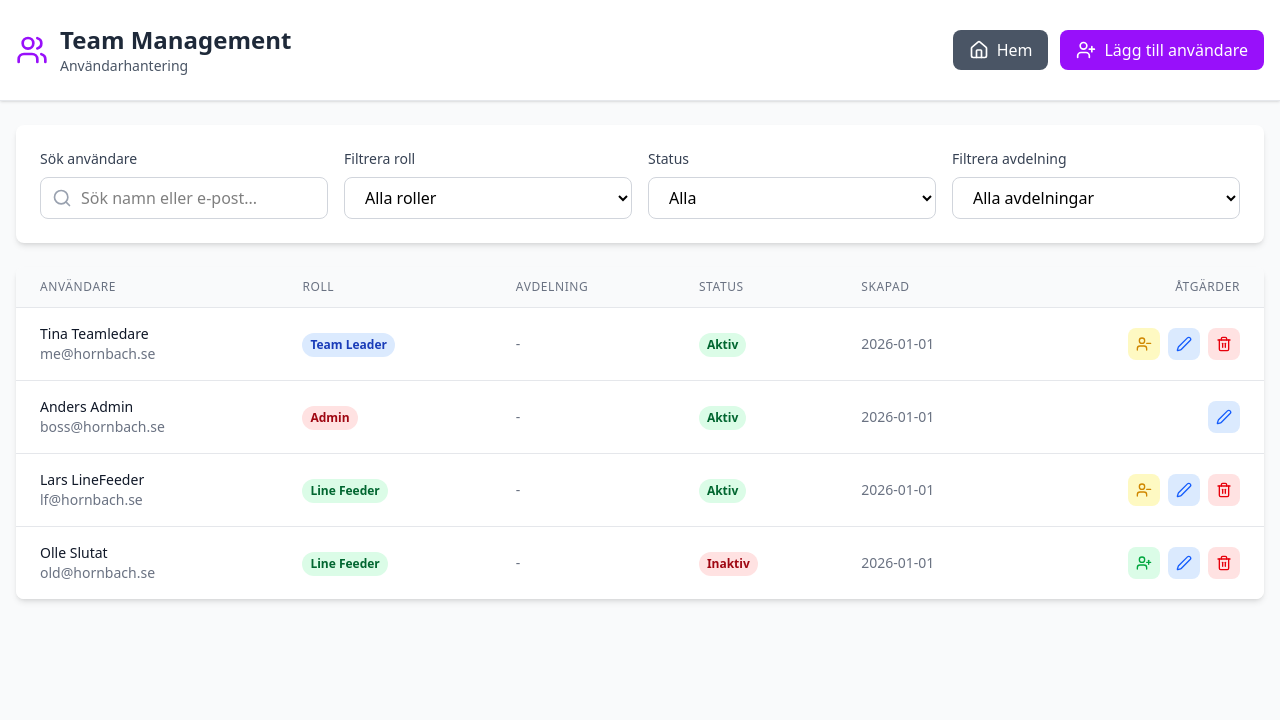
Test: TeamManagement › creates a user only once on a double click
Click the button "Lägg till användare".
click(1162, 50)  # box [1060, 30, 1264, 70]
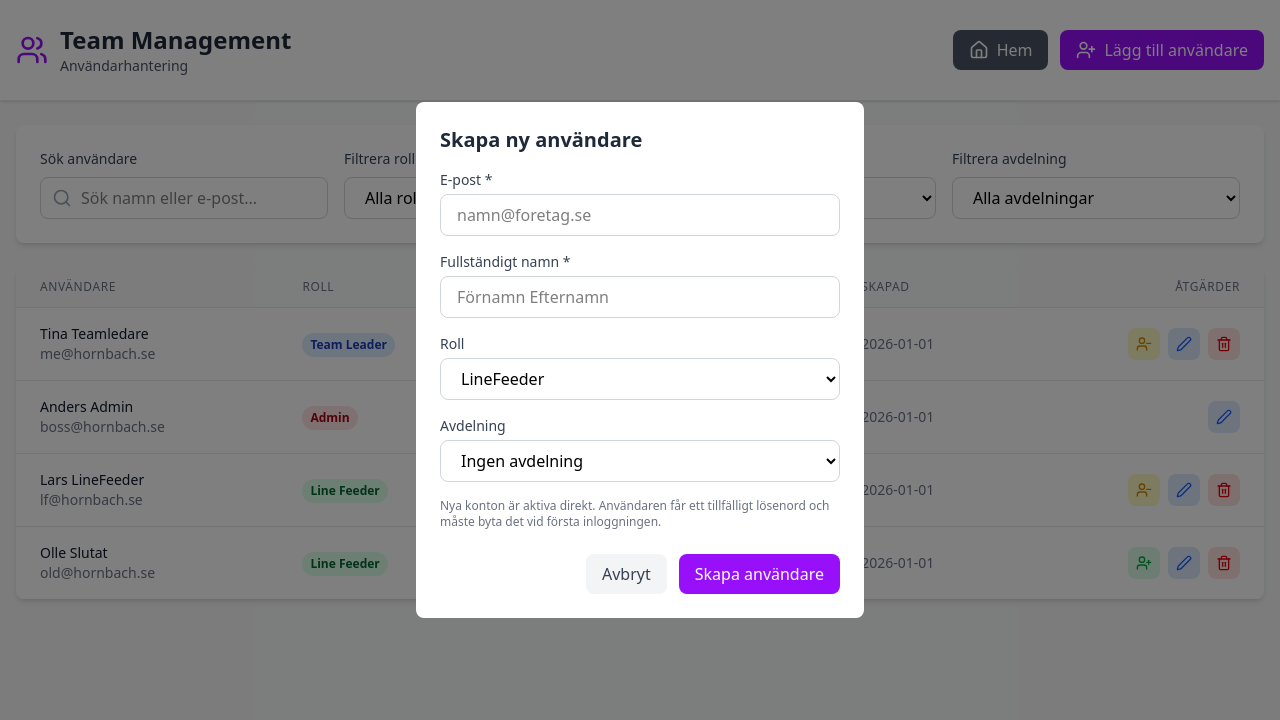
Type "ny@hornbach.se" into the field with placeholder "namn@foretag.se".
click(640, 215); type("ny@hornbach.se")  # box [440, 194, 840, 236]
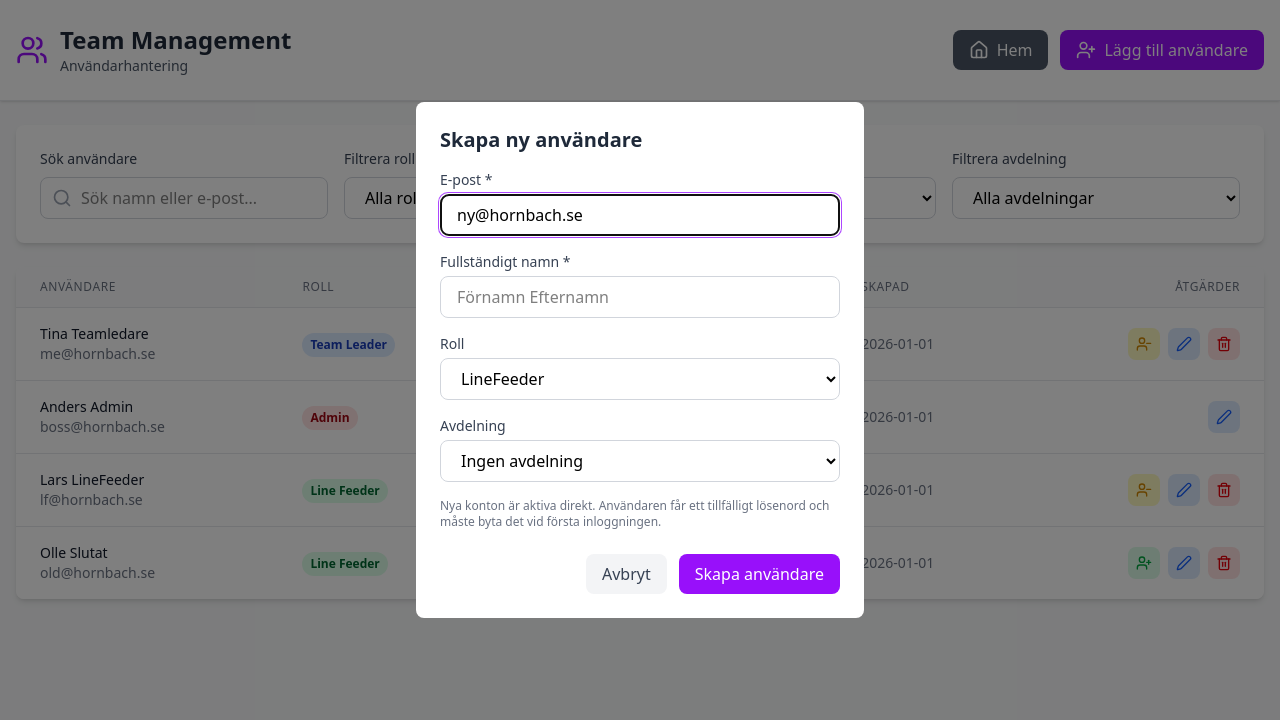
Type "Ny Person" into the field with placeholder "Förnamn Efternamn".
click(640, 297); type("Ny Person")  # box [440, 276, 840, 318]
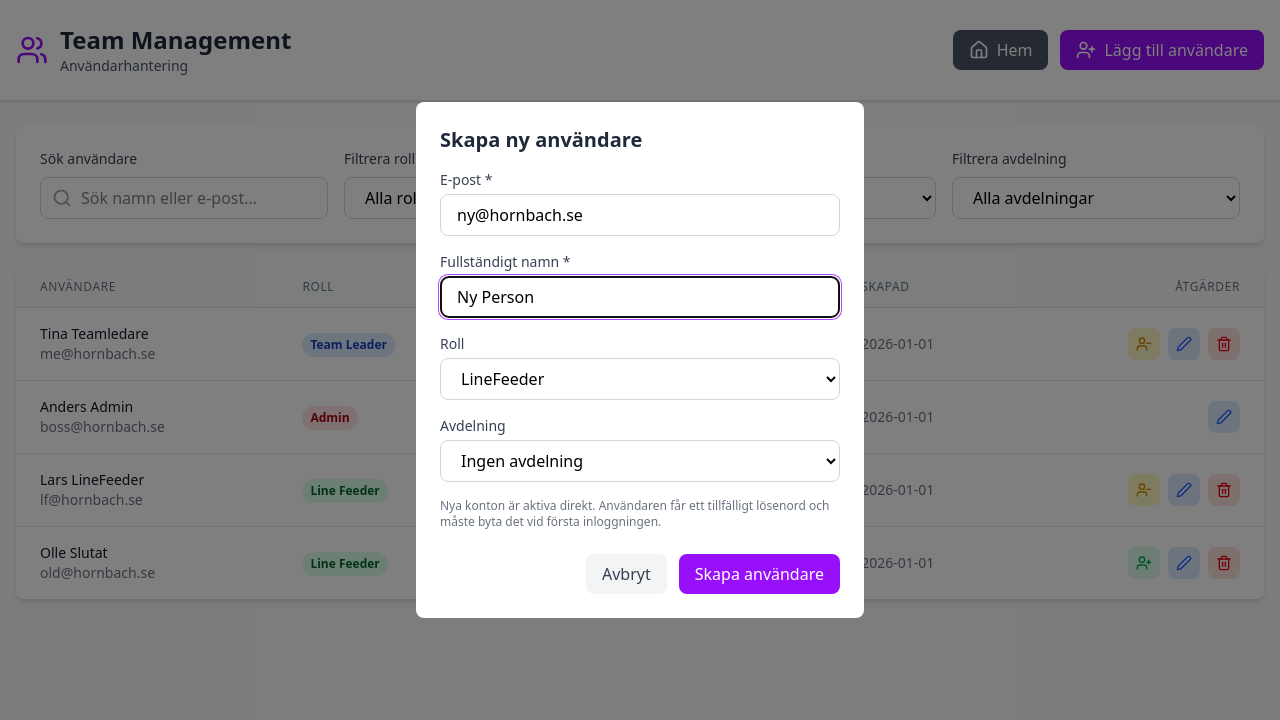
Double-click the button "Skapa användare".
double_click(759, 574)  # box [679, 554, 840, 594]
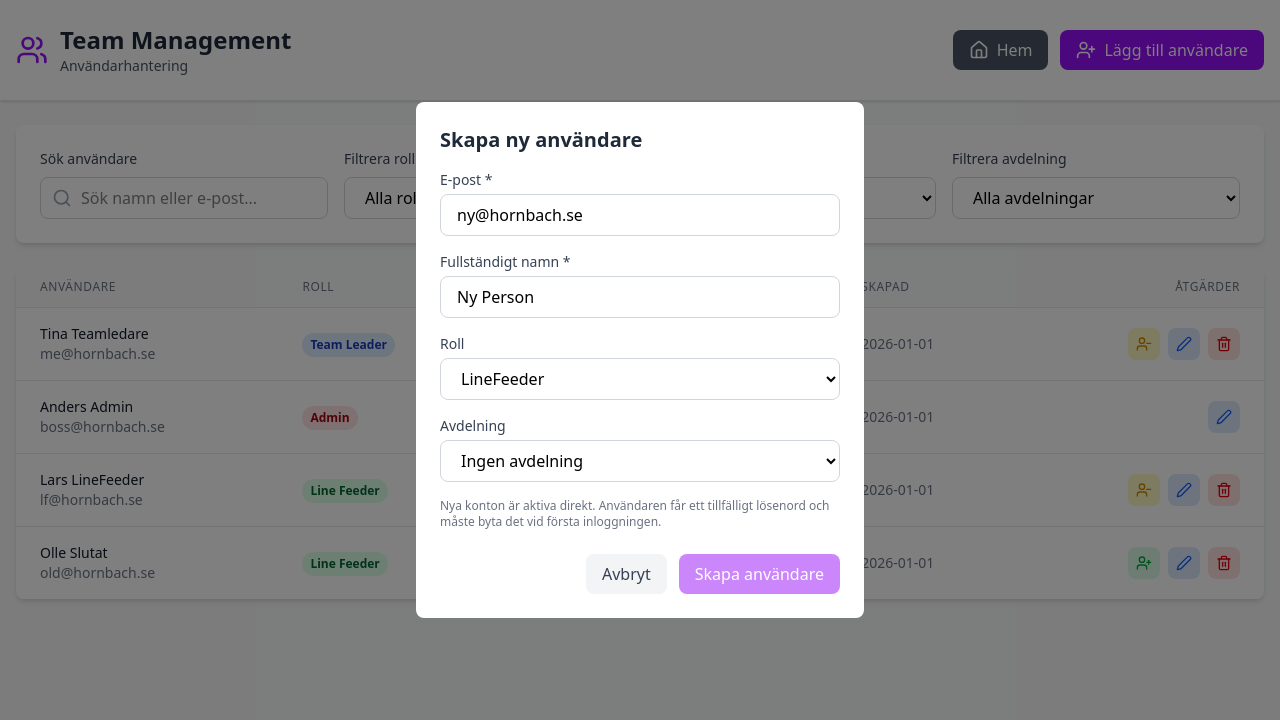
Result: the button "Skapa användare" is disabled at [679, 554, 840, 594]
